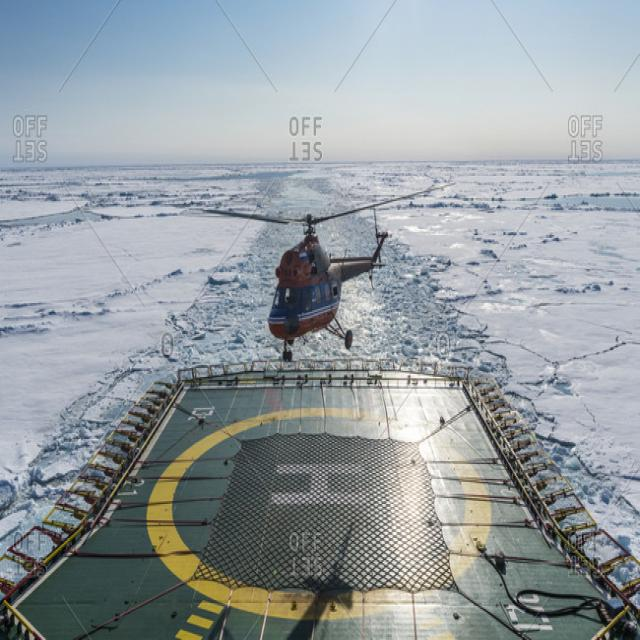helipad: (139, 401, 497, 625)
